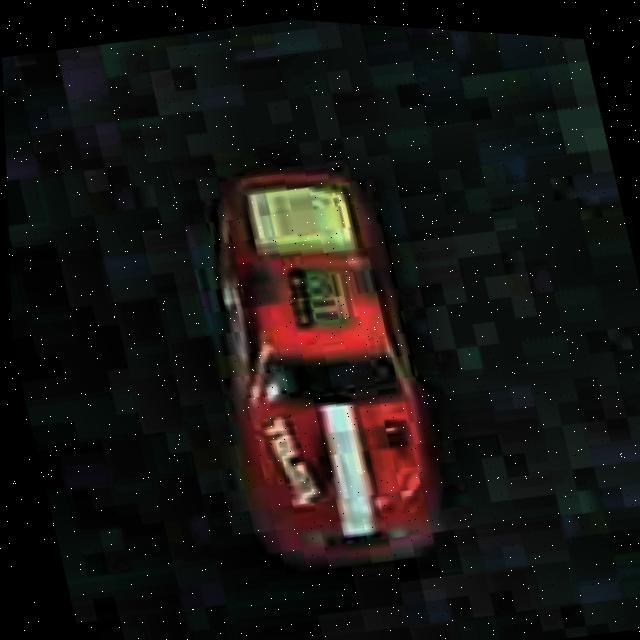car: (169, 131, 470, 595)
